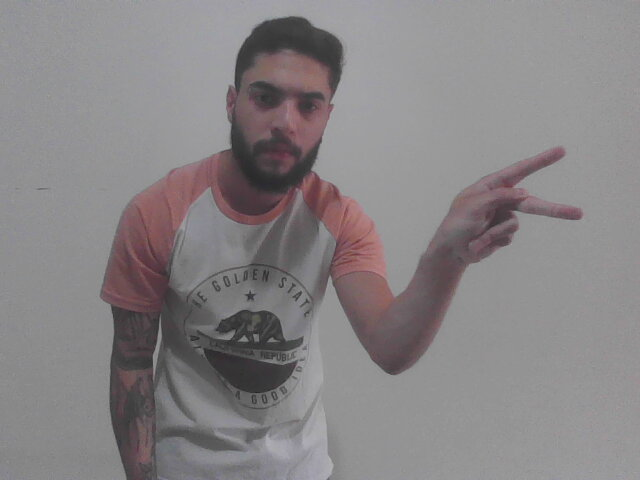k: (428, 143, 586, 291)
